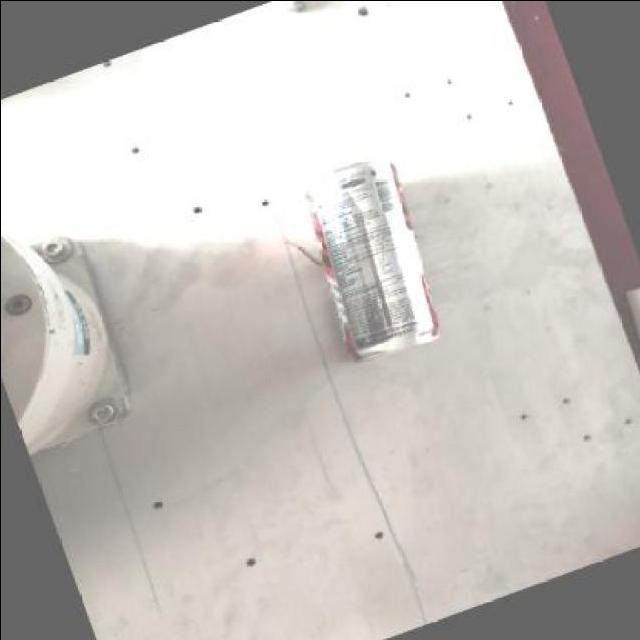can: (272, 138, 466, 376)
